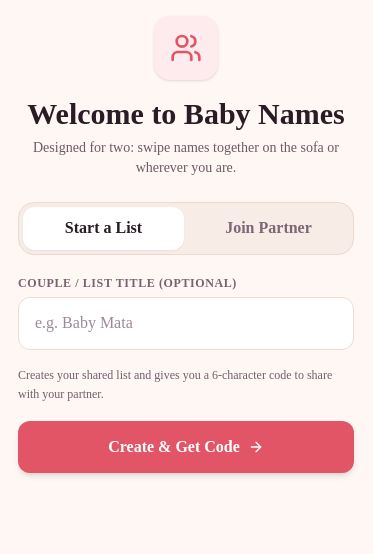
Test case: OnboardingScreen › shows the invalid_invite_code join failure
The image size is (373, 554).
Click the button "Join Partner": (268, 228) [188, 207, 349, 250]
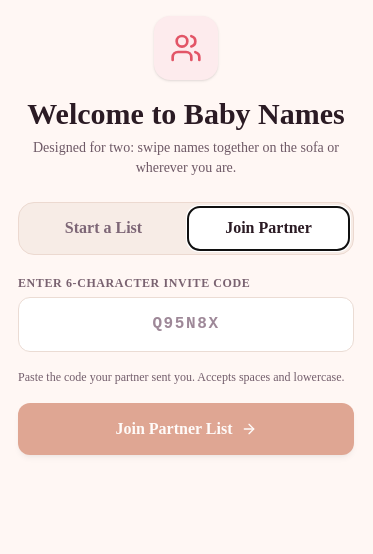
In the field with placeholder "Q95N8X": (186, 324) [18, 297, 354, 352], type "abc 123"
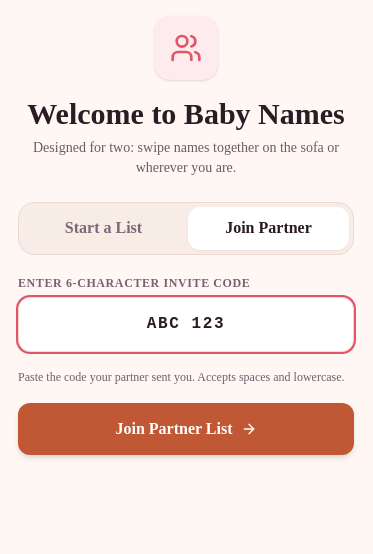
Click the button "Join Partner List": (186, 429) [18, 403, 354, 455]
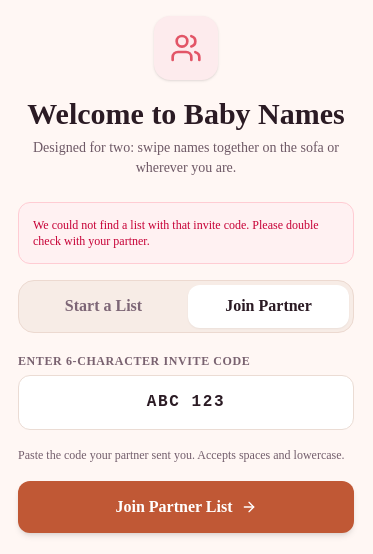
Expected: the text "We could not find a list with that invite code. Please double check with your partner." is shown, [33, 218, 319, 248]
